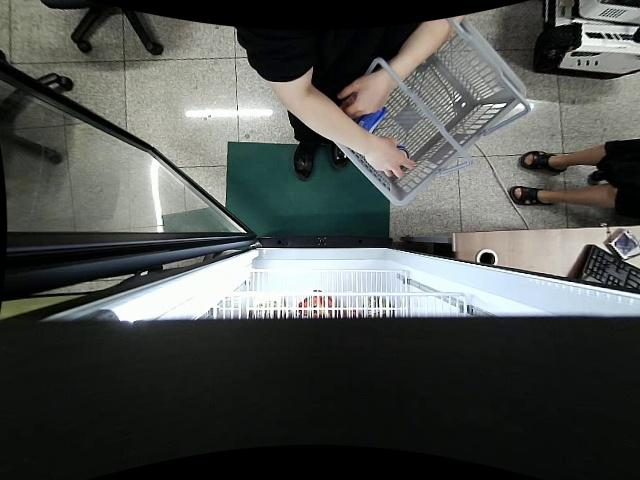00_hand: (337, 73, 391, 118), (366, 134, 417, 179)
13_pocariSweat: (353, 101, 387, 136)
